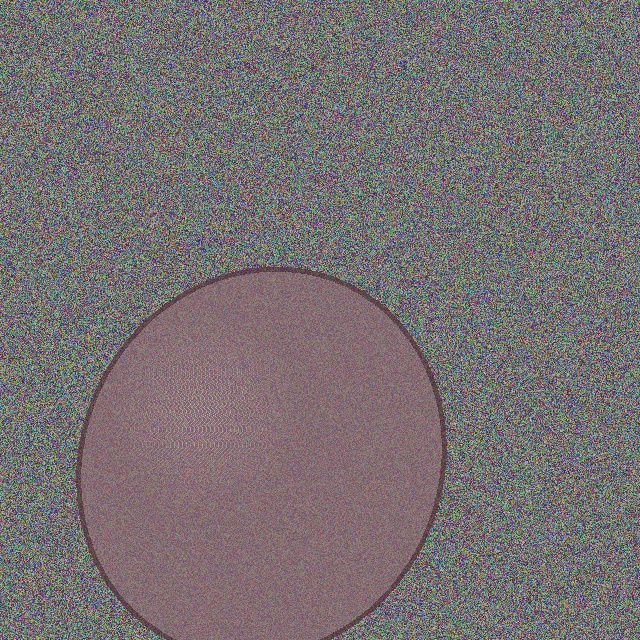lens: (78, 270, 444, 640)
